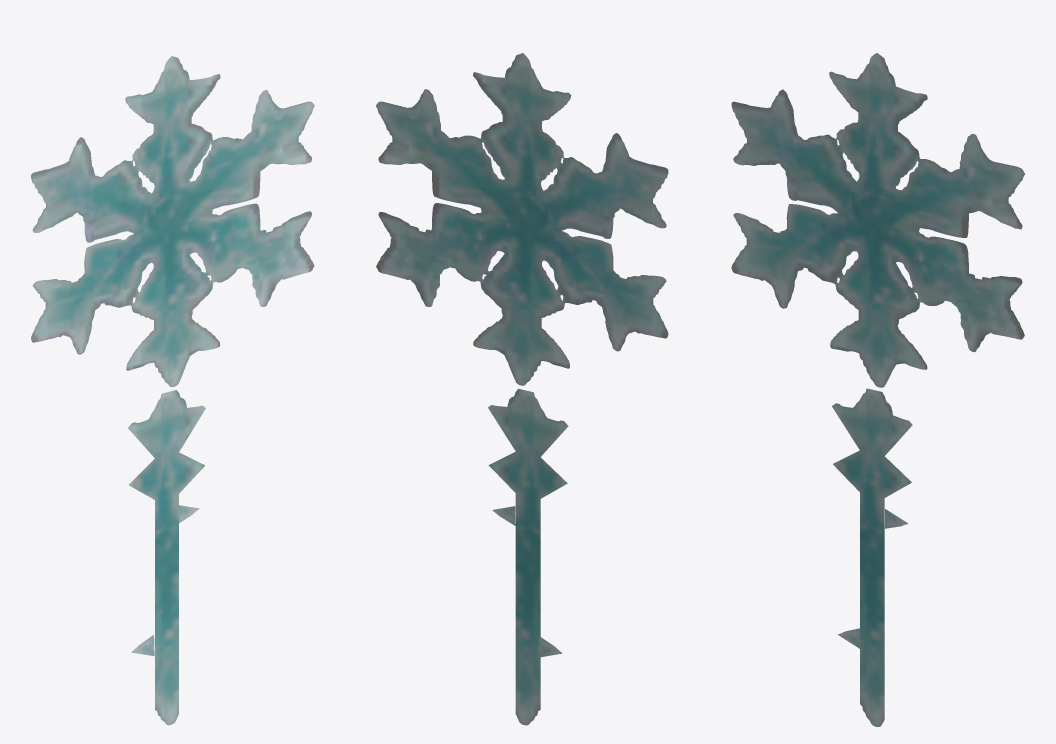
File: pref_sm_beach_winter_lightstick_lv3.fbx
The picture shows the model from 3 angles, left to right: view 1: azimuth 30°, elevation 25°; view 2: azimuth 150°, elevation 25°; view 3: azimuth 330°, elevation 25°; orthographic projection.
Visible parts, largest first — view 1: pref_sm_beach_winter_lightstick_lv3; view 2: pref_sm_beach_winter_lightstick_lv3; view 3: pref_sm_beach_winter_lightstick_lv3.
Part boxes in pixels (box(x1,y1,x2,y2)): pref_sm_beach_winter_lightstick_lv3: box(31, 55, 314, 725); pref_sm_beach_winter_lightstick_lv3: box(376, 53, 668, 725); pref_sm_beach_winter_lightstick_lv3: box(731, 53, 1024, 726).
Size of the model in its own units: 0.9916 by 1.98 by 0.0223.
